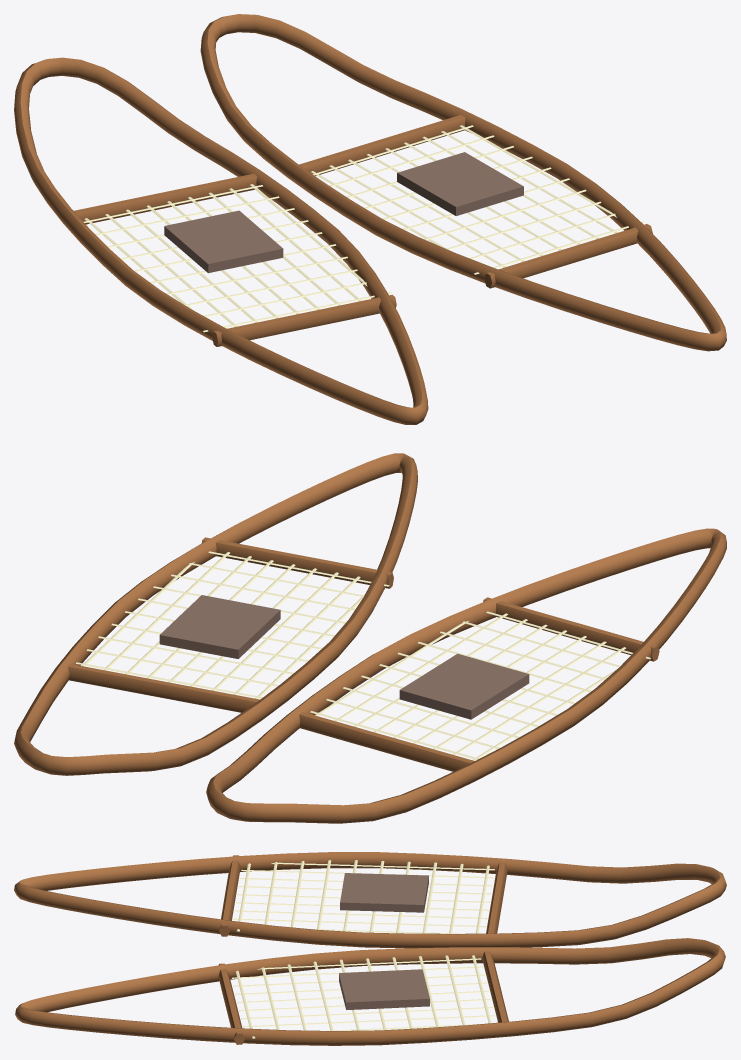
File: snowshoes.glb
3 views of the same model, one above another, from view 1: azimuth 30°, elevation 25°; view 2: azimuth 150°, elevation 25°; view 3: azimuth 270°, elevation 25° (orthographic). The views are drawn at different scales.
Parts seen in each view (by area): view 1: snowshoe.001, snowshoe; view 2: snowshoe, snowshoe.001; view 3: snowshoe.001, snowshoe.
Part boxes in pixels (bbox=[...]): snowshoe.001: bbox=[200, 14, 726, 351]; snowshoe: bbox=[14, 57, 428, 424]; snowshoe: bbox=[206, 528, 726, 823]; snowshoe.001: bbox=[14, 453, 417, 775]; snowshoe.001: bbox=[15, 938, 725, 1045]; snowshoe: bbox=[14, 852, 726, 948].
Size of the model in its own units: 0.619 by 0.0639 by 1.02.
